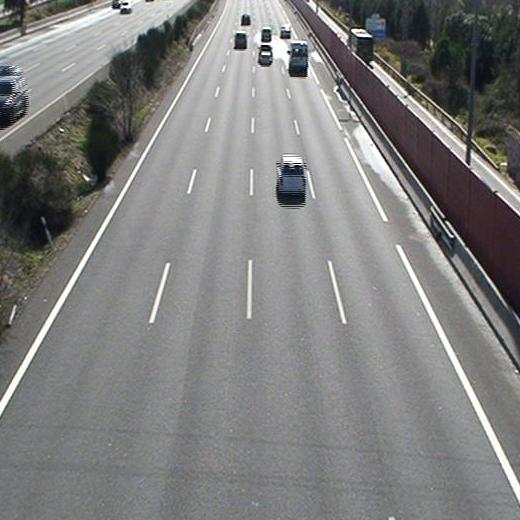car: (275, 155, 307, 196), (259, 43, 273, 65), (233, 33, 248, 50), (280, 24, 291, 39), (261, 27, 272, 41)
van: (288, 41, 309, 74)
